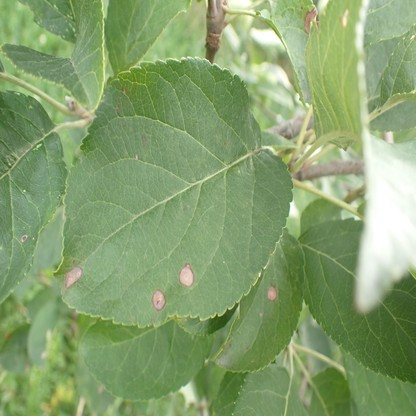frogeye_leaf_spot: (63, 266, 83, 288), (179, 263, 195, 287), (152, 289, 165, 310), (304, 10, 315, 32), (266, 285, 277, 300)
powdery_mildew: (216, 350, 235, 364)
